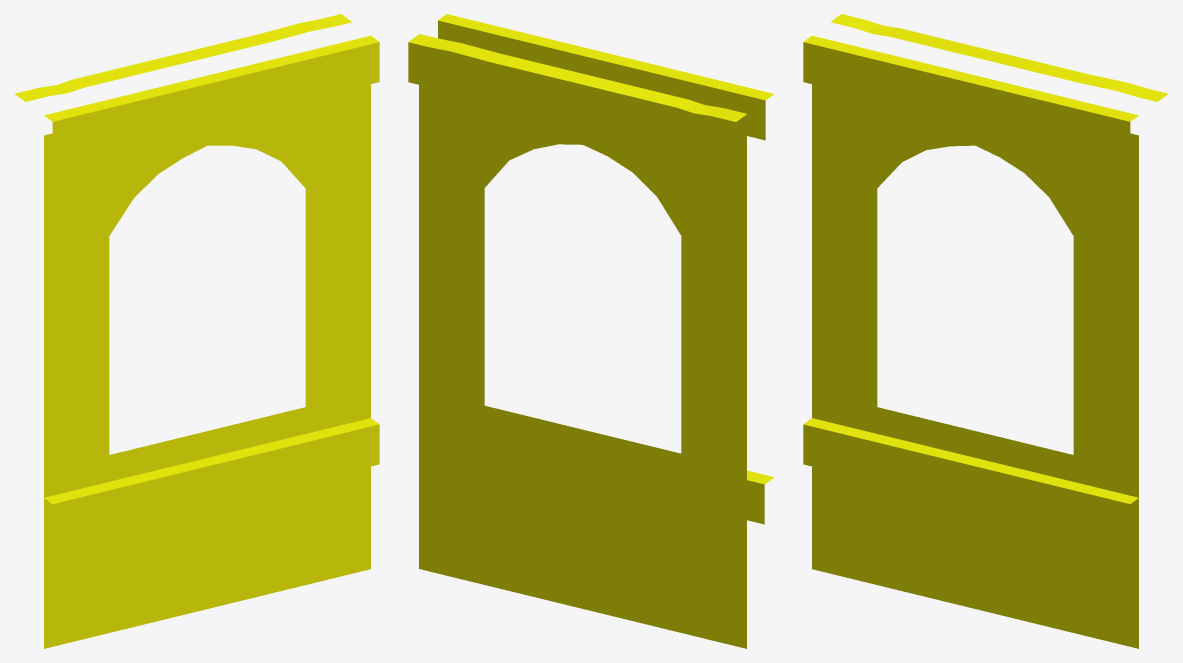
The model's file is Wall_Plaster_Window_Wide_Round.glb.
3 views of the same model, side by side, from view 1: azimuth 30°, elevation 25°; view 2: azimuth 150°, elevation 25°; view 3: azimuth 330°, elevation 25° (orthographic).
Visible parts, largest first — view 1: Wall_Plaster_Window_Wide_Round; view 2: Wall_Plaster_Window_Wide_Round; view 3: Wall_Plaster_Window_Wide_Round.
Part boxes in pixels (x1,y1,x2,y2): Wall_Plaster_Window_Wide_Round: (14,14,379,648); Wall_Plaster_Window_Wide_Round: (408,14,774,648); Wall_Plaster_Window_Wide_Round: (803,14,1168,648).
Bounding box in the file's own units: 2 × 3.12 × 0.4065.
Materials: 3 (3 with a texture image).
